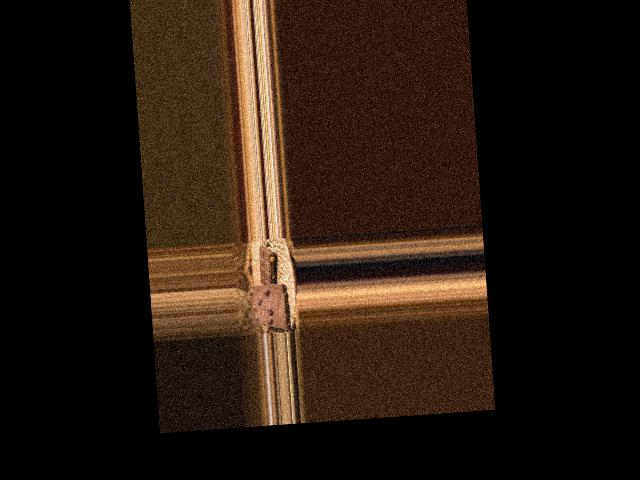chocolate: (247, 280, 290, 332)
